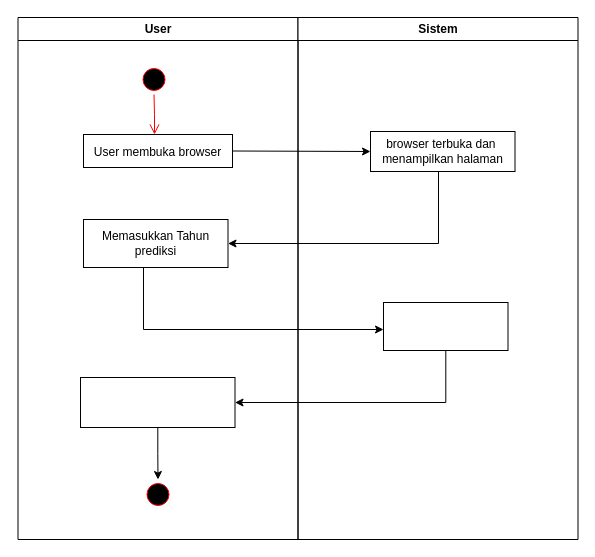
Some shapes in this 595 by 557 pixel diagram are drawn without their labels. The centre of each missing label's shape, as x and y in pixels:
browser menampilkan hasil prediksi: the point at 445,326
User dapat melihat hasil prediksi: the point at 157,402
